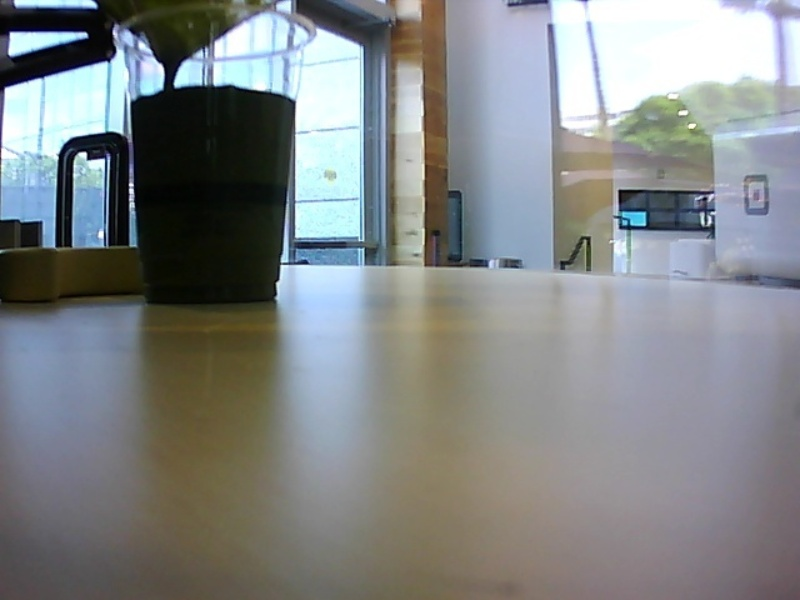cup: (107, 3, 317, 309)
limit: (127, 77, 302, 110)
